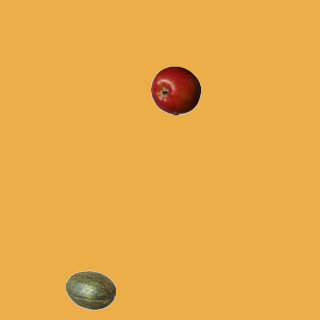Apple Braeburn: (150, 65, 200, 115)
Melon Piel de Sapo: (65, 265, 115, 315)
